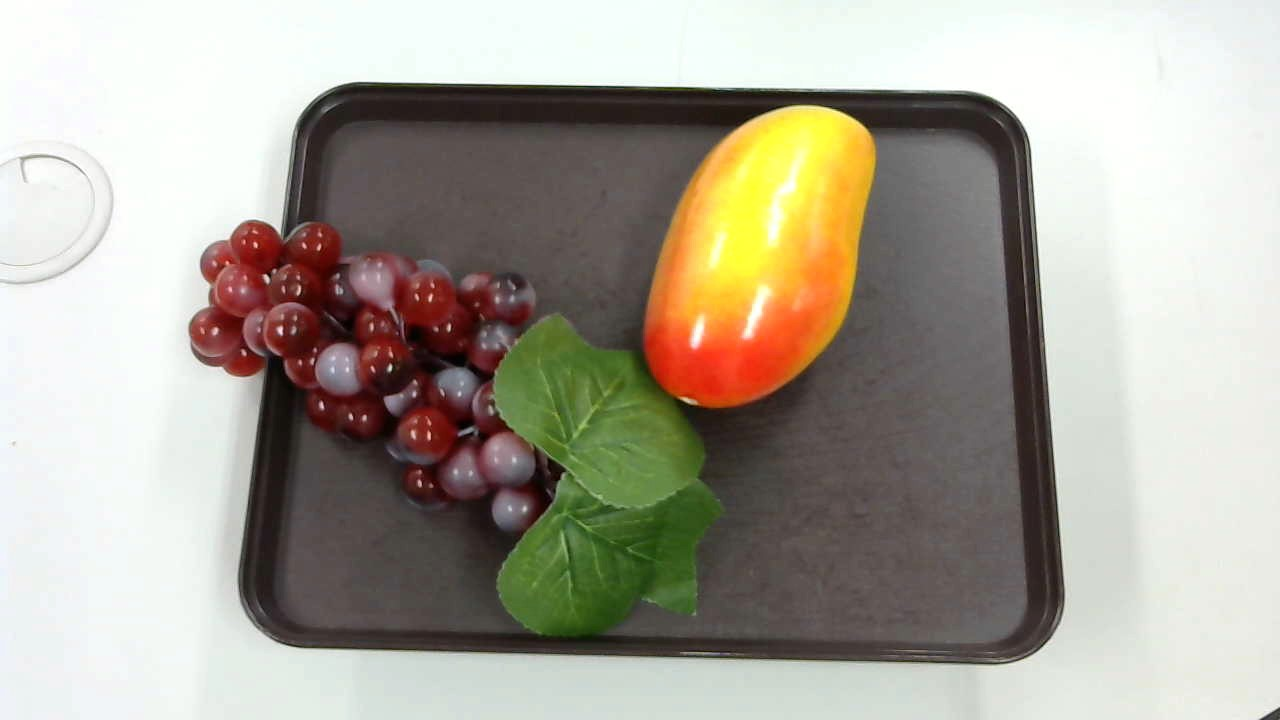grape: (186, 219, 725, 641)
red mango: (642, 102, 879, 408)
